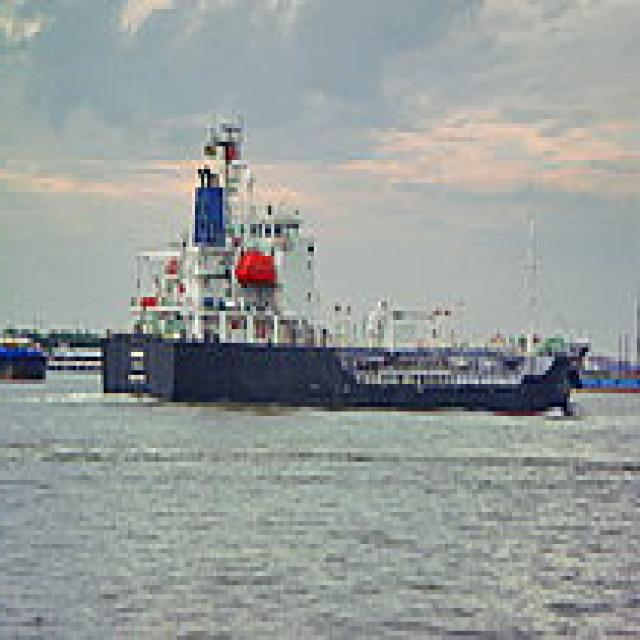Tanker: (98, 105, 600, 402)
